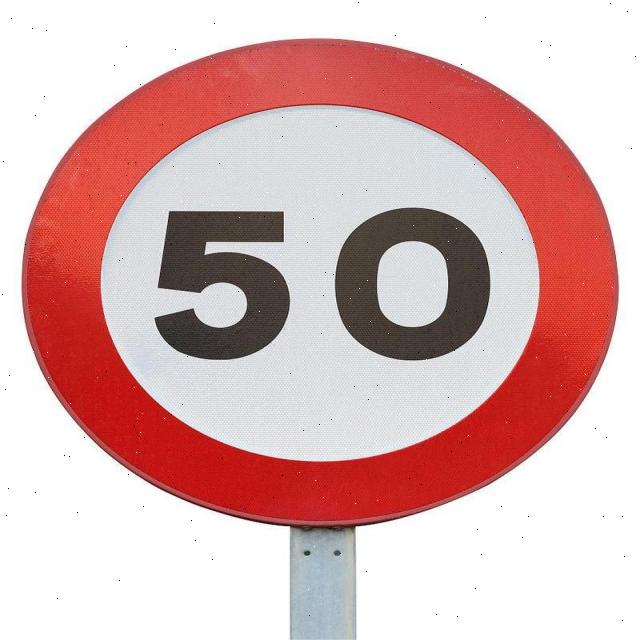speed limit 50: (16, 39, 620, 529)
